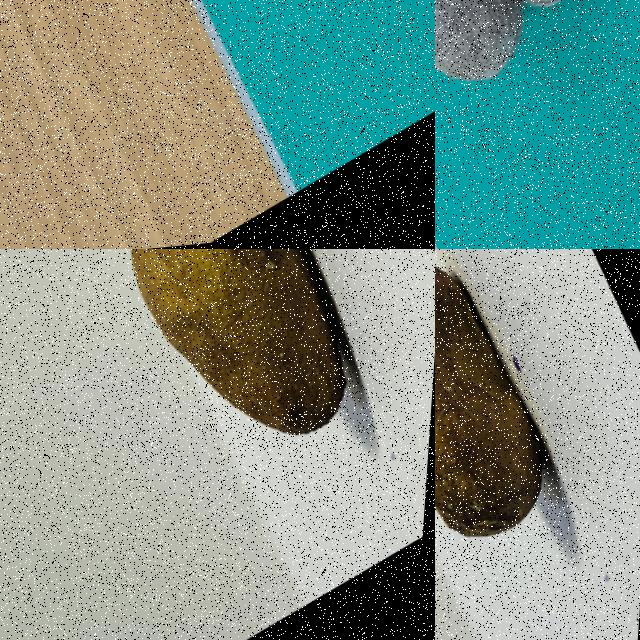Agglomerated_cocoabeans: (435, 0, 639, 192)
Fine_cocoabeans: (54, 249, 421, 525), (435, 249, 634, 639)
